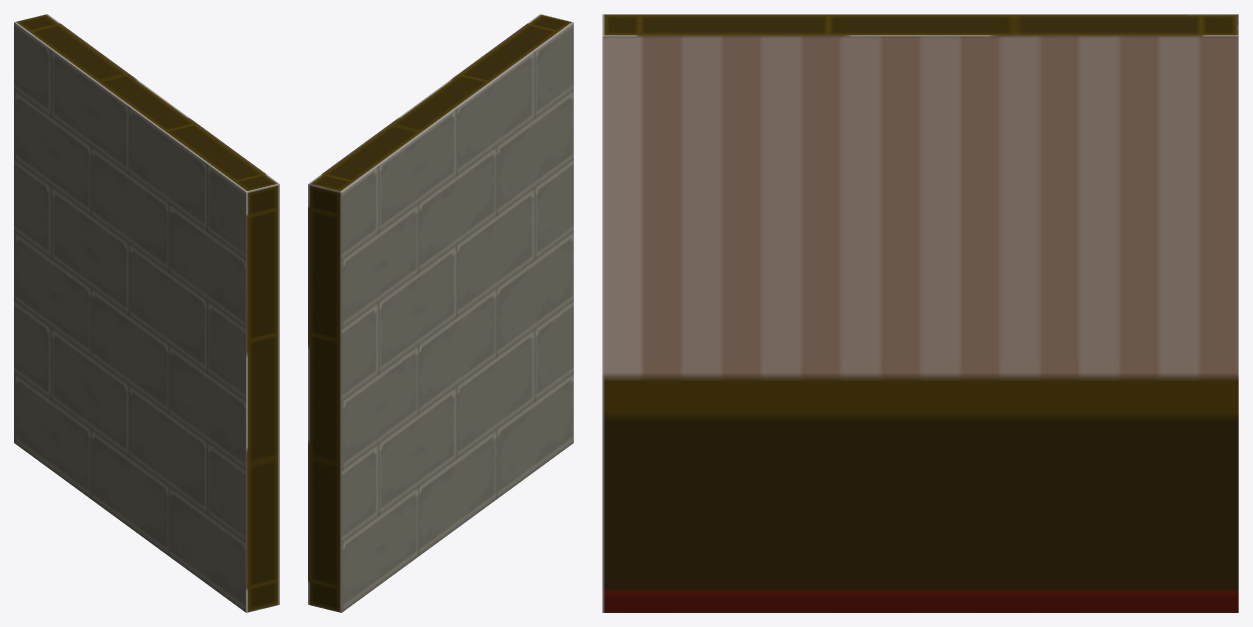
Rendered from Wall_11.fbx.
3 views of the same model, side by side, from view 1: azimuth 30°, elevation 25°; view 2: azimuth 150°, elevation 25°; view 3: azimuth 270°, elevation 25° (orthographic). The views are drawn at different scales.
Parts seen in each view (by area): view 1: Wall_11; view 2: Wall_11; view 3: Wall_11.
Part boxes in pixels (x1,y1,x2,y2): Wall_11: (14, 14, 279, 612); Wall_11: (308, 14, 573, 612); Wall_11: (602, 14, 1238, 612).
Size of the model in its own units: 50 by 600 by 600.
